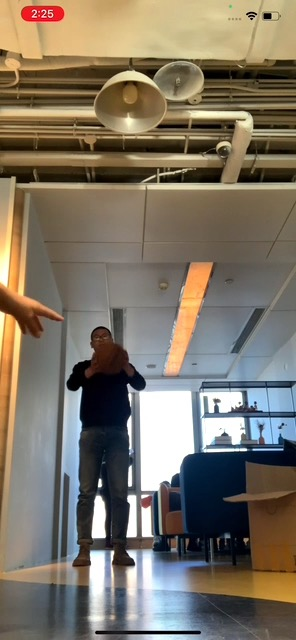ball: (93, 341, 127, 375)
